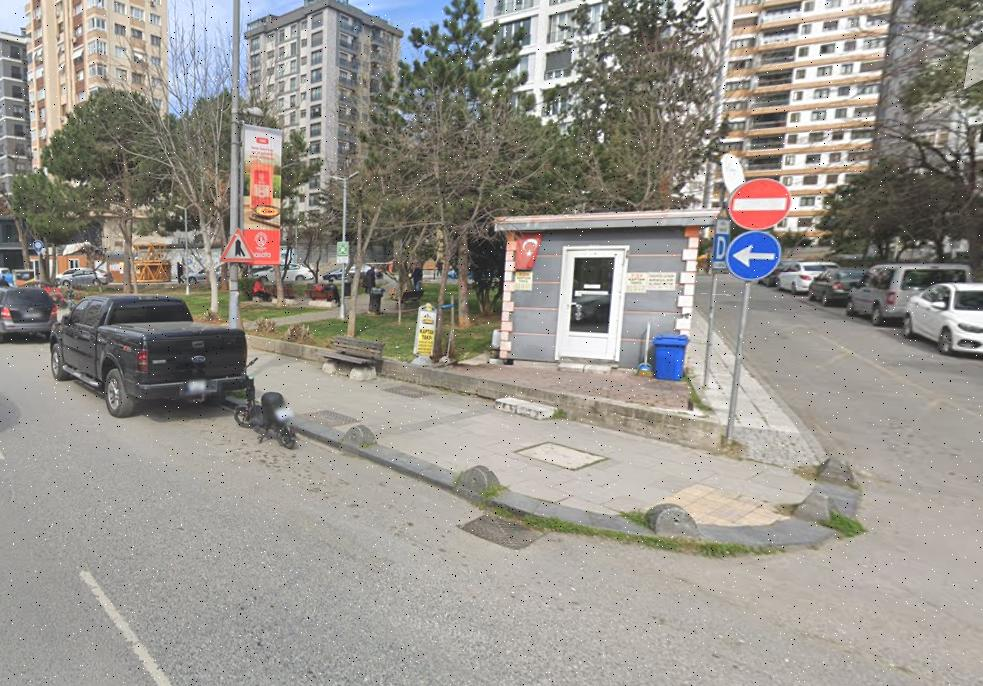turnleft: (724, 232, 779, 278)
